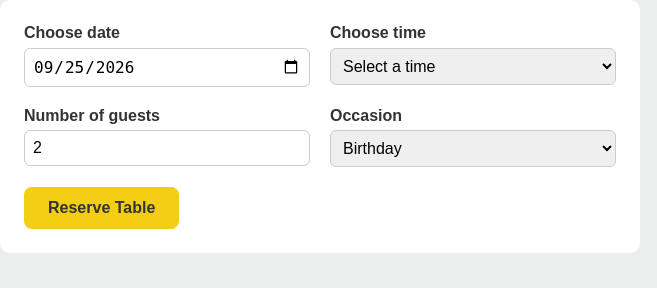
shows a validation error when guests is out of range
Replace the text in the number field labelled "Number of guests" with "15" at coordinates (167, 148), box top-left (24, 130), bottom-right (310, 166)
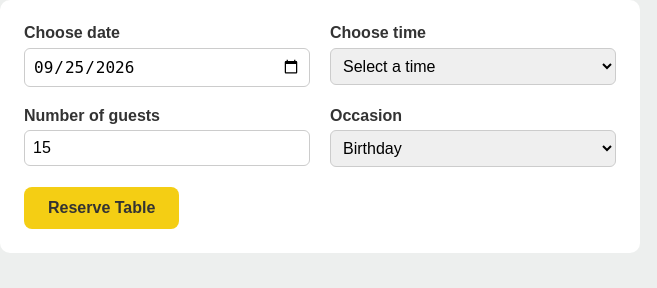
Leave the number field labelled "Number of guests", box top-left (24, 130), bottom-right (310, 166)
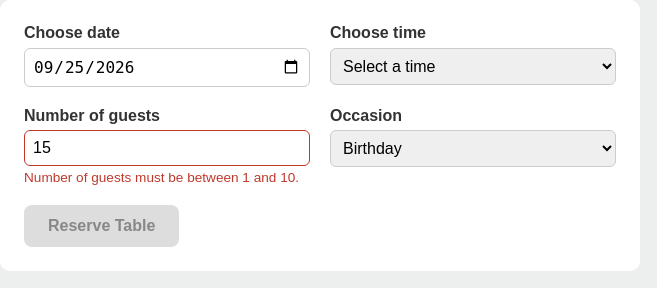
Expected: the text "Number of guests must be between 1 and 10." is shown, top-left (24, 170), bottom-right (310, 185)
